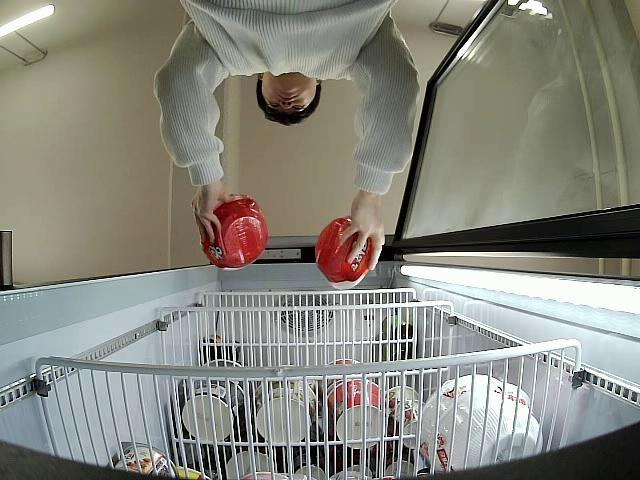10_wangTtukkeong: (202, 194, 267, 270), (316, 215, 372, 290)
